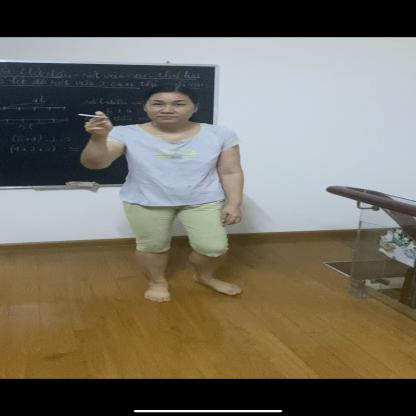cigarette: (75, 113, 99, 118)
person: (80, 79, 250, 312)
